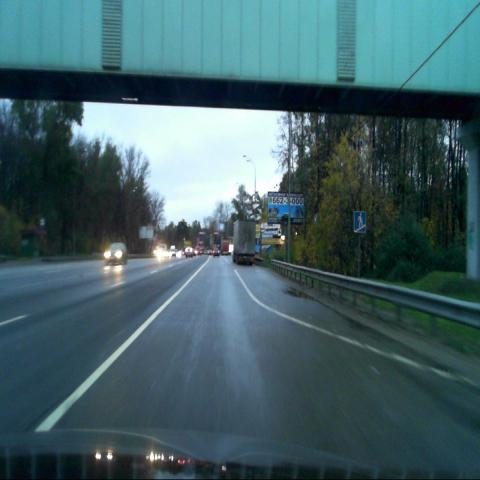6_7: (354, 211, 366, 233)
